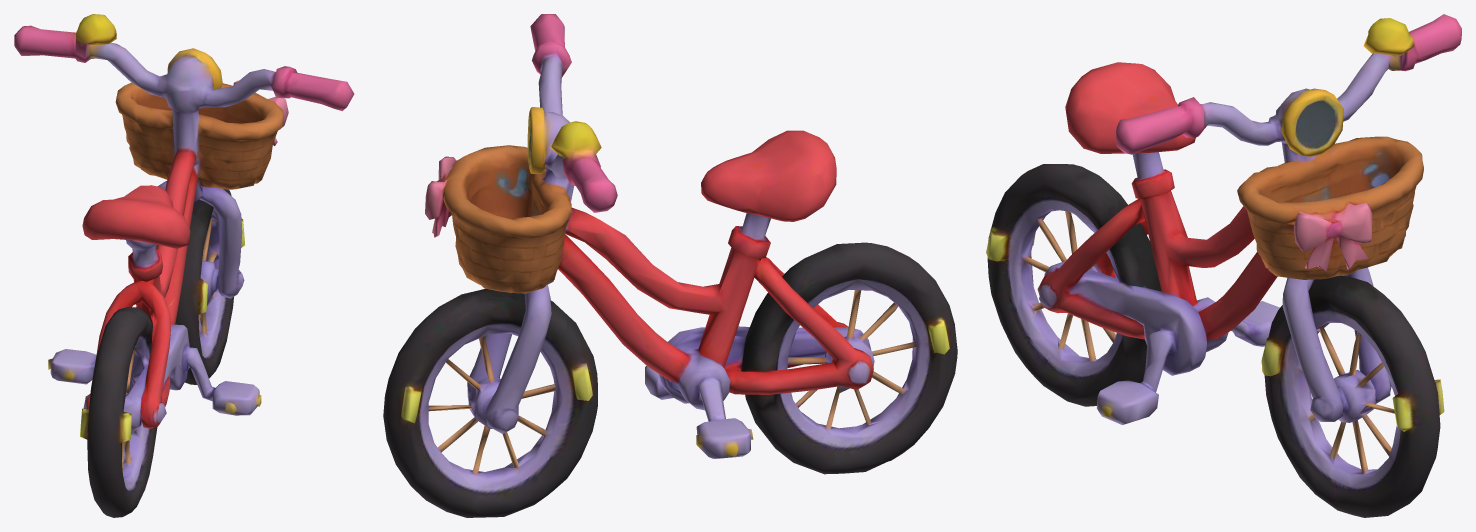
The model's file is bicycle.glb.
The picture shows the model from 3 angles, left to right: view 1: azimuth 30°, elevation 25°; view 2: azimuth 150°, elevation 25°; view 3: azimuth 270°, elevation 25°; orthographic projection. The views are drawn at different scales.
Visible parts, largest first — view 1: tripo_node_8d908423-d1bd-4a74-9660-47679df22a39; view 2: tripo_node_8d908423-d1bd-4a74-9660-47679df22a39; view 3: tripo_node_8d908423-d1bd-4a74-9660-47679df22a39.
Boxes of the visible parts, x1,y1,x2,y2 form: tripo_node_8d908423-d1bd-4a74-9660-47679df22a39: (14, 14, 354, 517); tripo_node_8d908423-d1bd-4a74-9660-47679df22a39: (383, 14, 957, 517); tripo_node_8d908423-d1bd-4a74-9660-47679df22a39: (986, 14, 1461, 517).
Size of the model in its own units: 0.7249 by 0.8 by 0.7801.
Materials: 1 (1 with a texture image).
